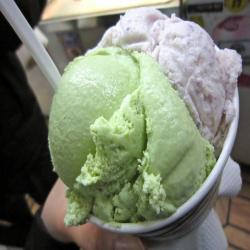icecream: (33, 8, 250, 244)
